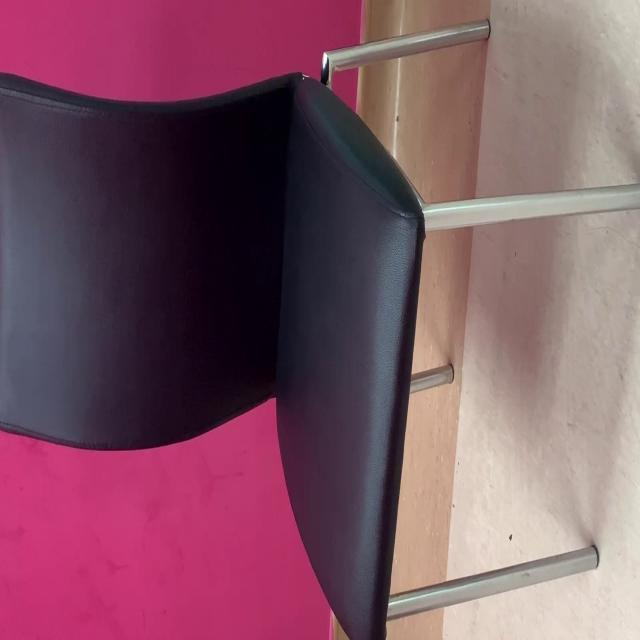Chair: (0, 25, 640, 640)
